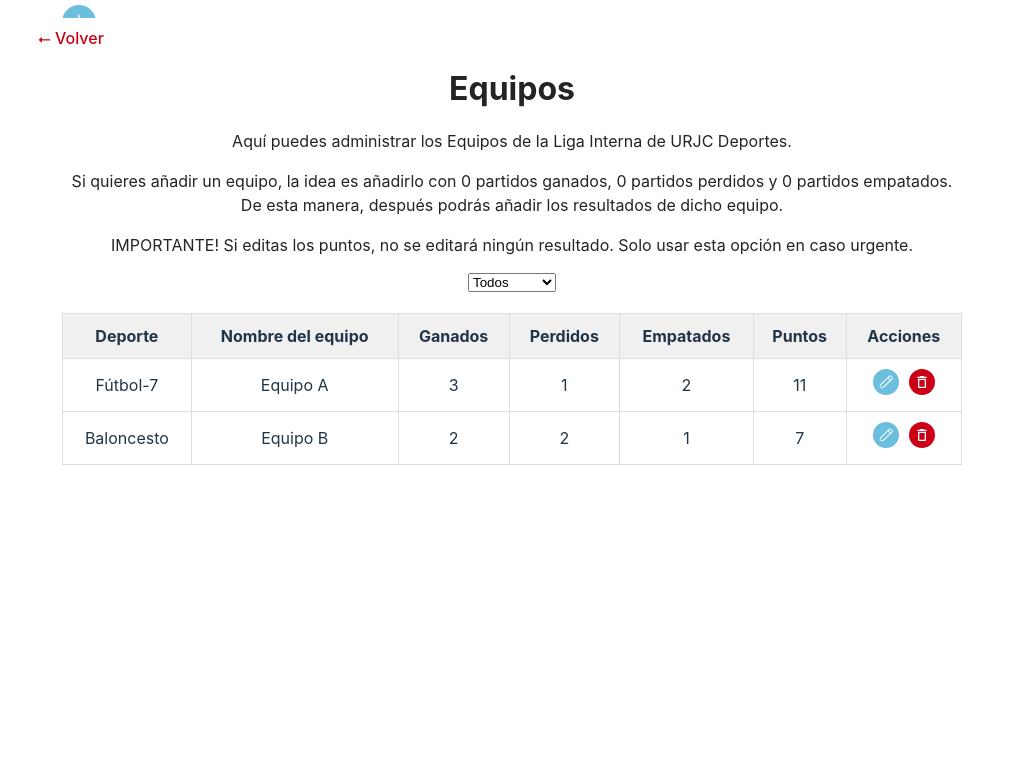
AdminTeams Component › opens modal to edit a team
Step 1. Click the 1st icon with class "editPencil" → (886, 382), box [873,369,899,395]
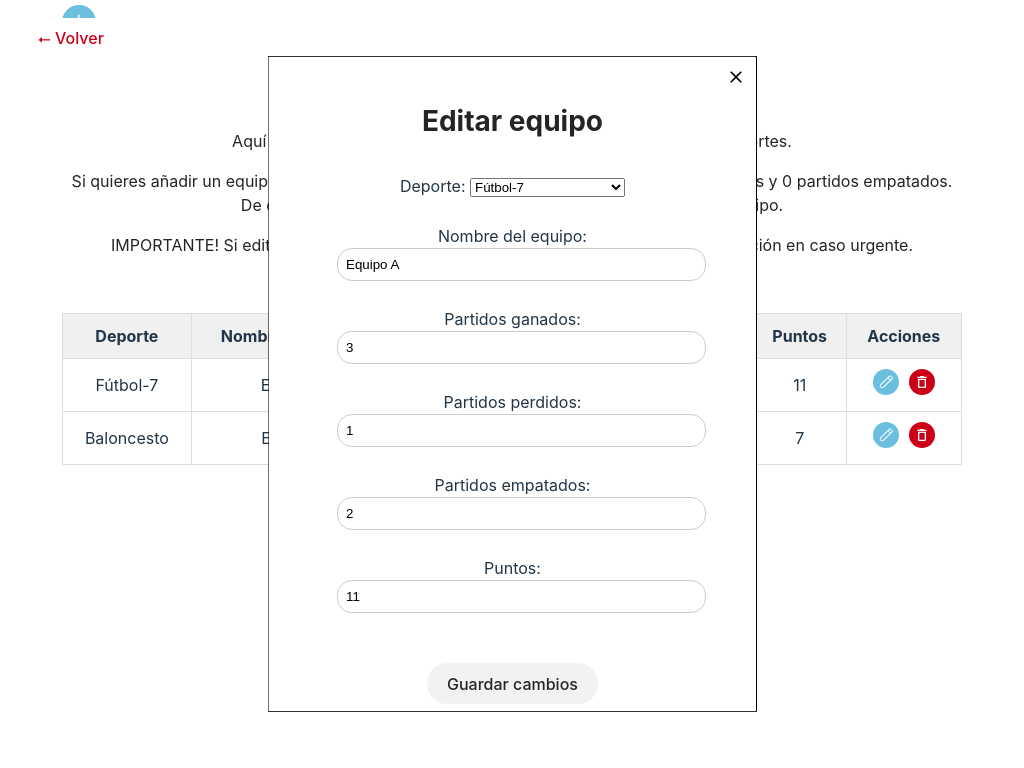
Check: the heading "Editar equipo" is shown, box [421,104,602,138]
